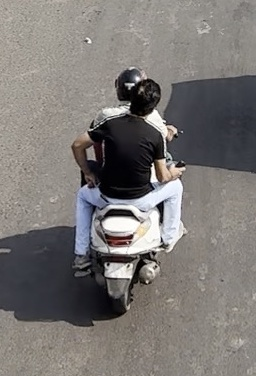BikeWithRider: (63, 61, 193, 317)
Helmet: (109, 62, 150, 106)
NoHelmet: (123, 75, 166, 121)
